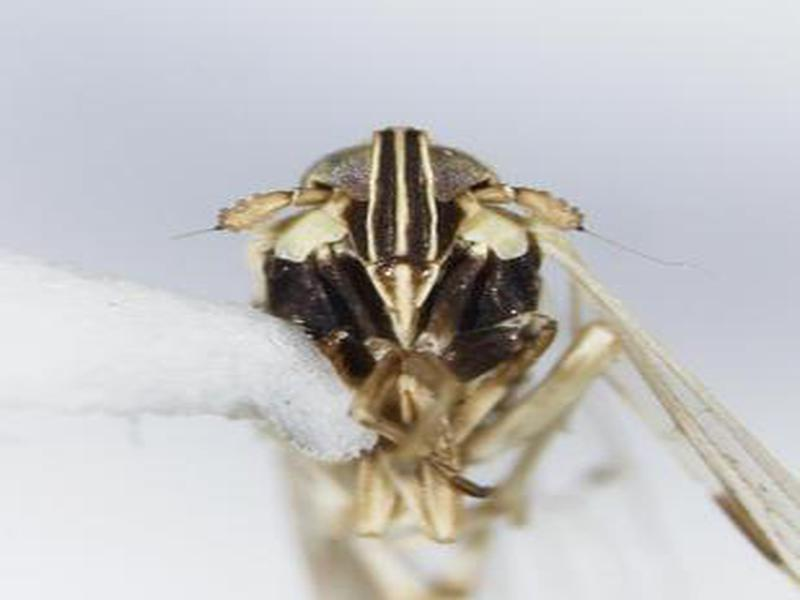White_backed_plant_hopper: (203, 120, 627, 538)
